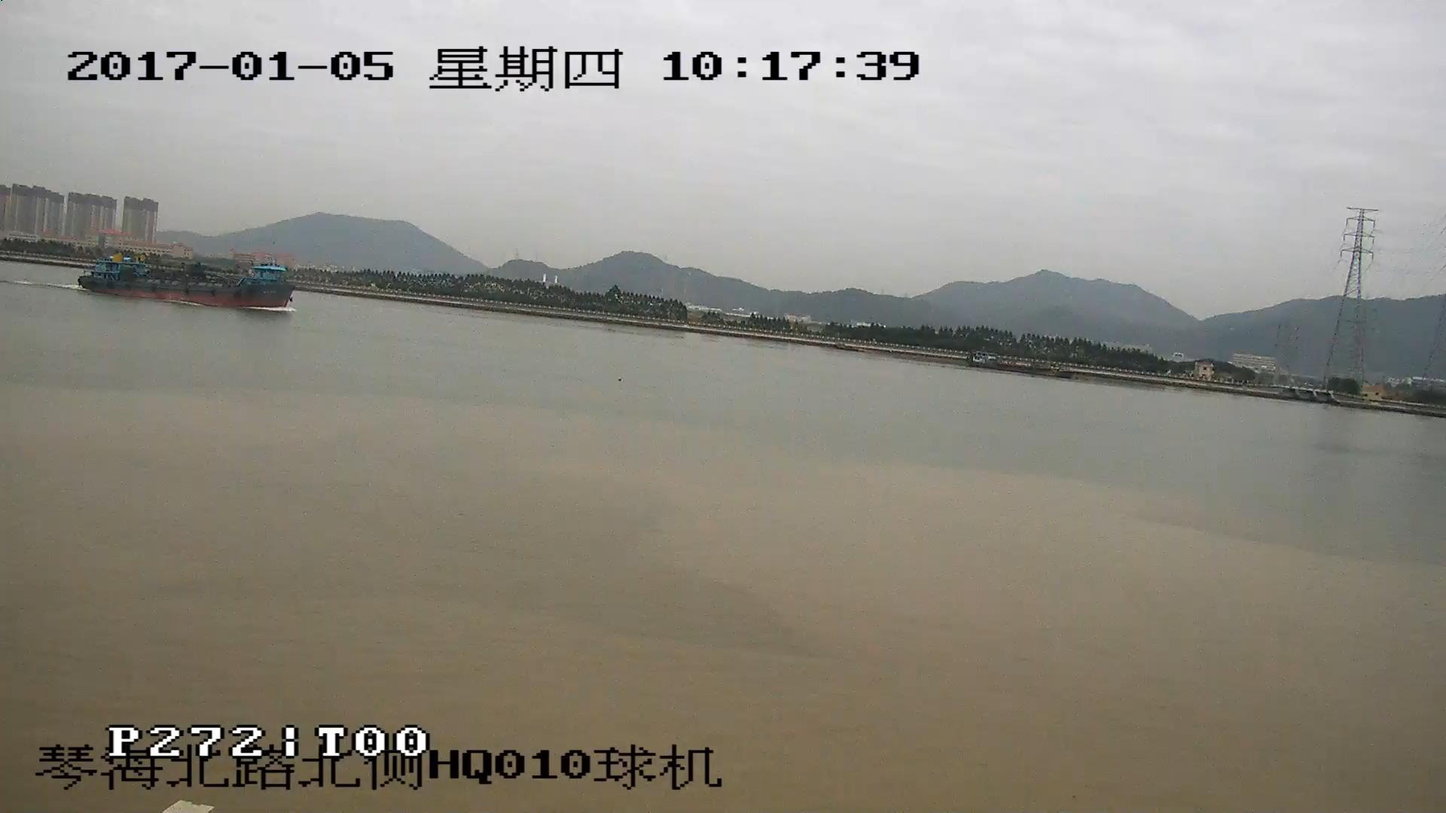bulk cargo carrier: (79, 257, 292, 311)
